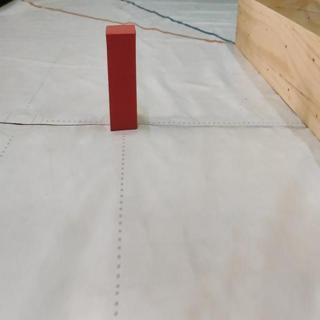redbox: (105, 23, 138, 131)
